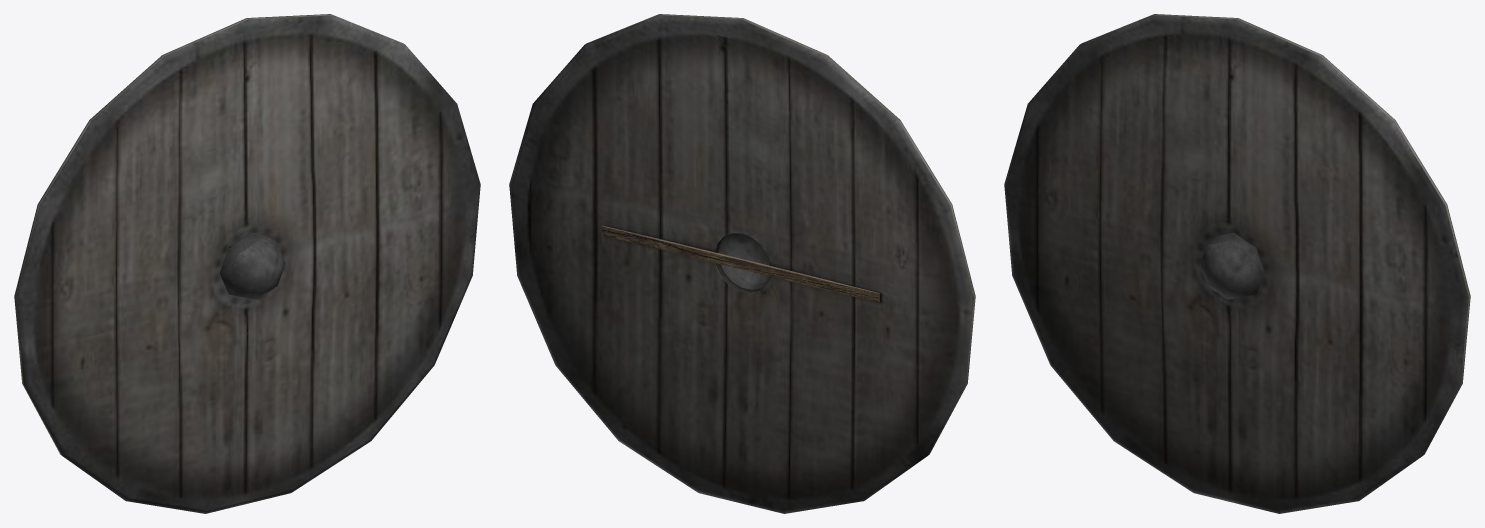
Rendered from Shield_Viking.glb.
3 renders of one model, left to right at view 1: azimuth 30°, elevation 25°; view 2: azimuth 150°, elevation 25°; view 3: azimuth 330°, elevation 25°, orthographic.
Parts seen in each view (by area): view 1: Shield_Viking; view 2: Shield_Viking; view 3: Shield_Viking.
Boxes of the visible parts, left/top/right/bottom form: Shield_Viking: left=14, top=14, right=480, bottom=513; Shield_Viking: left=509, top=14, right=975, bottom=513; Shield_Viking: left=1004, top=14, right=1470, bottom=513.
Size of the model in its own units: 0.7 by 0.697 by 0.0525.
Materials: 1 (1 with a texture image).
